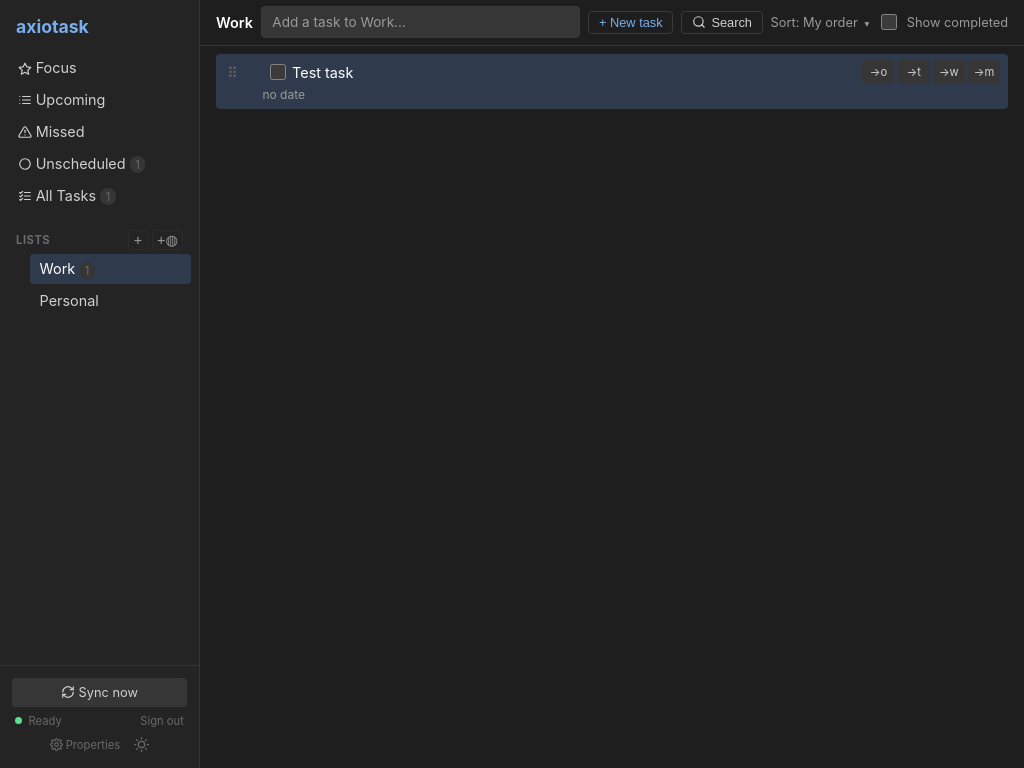
GH#19: Custom context menu › Due date submenu › does not auto-expand the submenu on hover — only on click
Expected: the text "Test task" is shown, 292,64 -> 353,81
Right-click the element with class "task-widget" at (612, 81), box 216,54 -> 1008,109
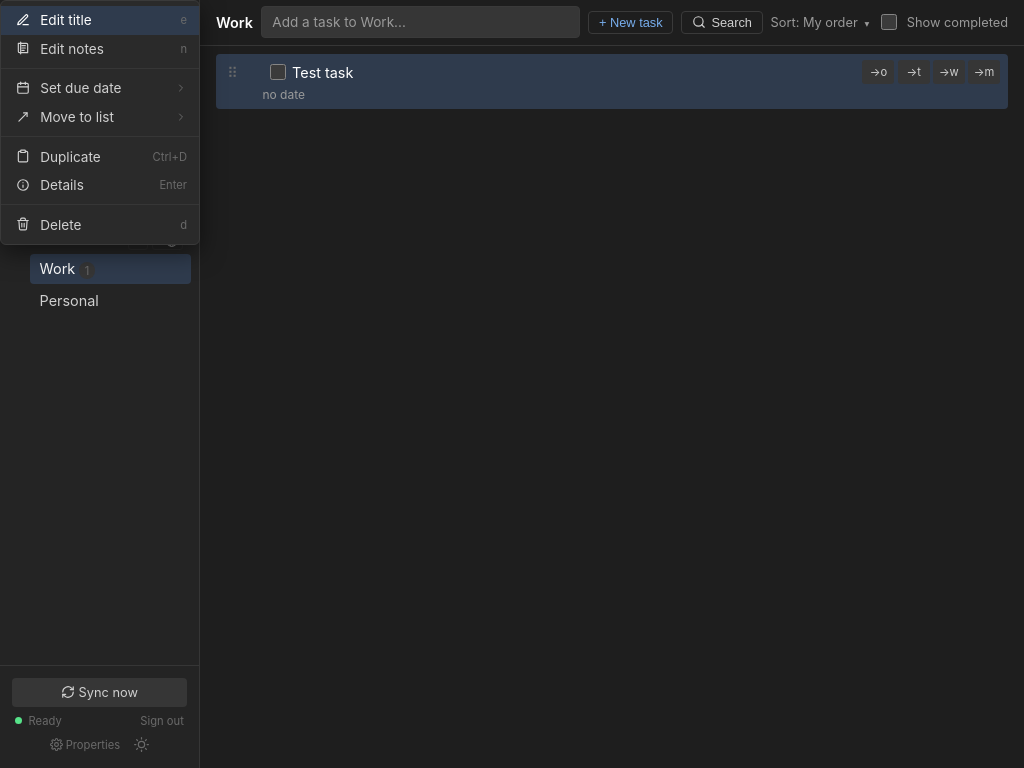
Result: the menu with class "context-menu" is shown at 0,0 -> 200,245
Hover over the text "Set due date" at (101, 88), box 16,80 -> 187,96
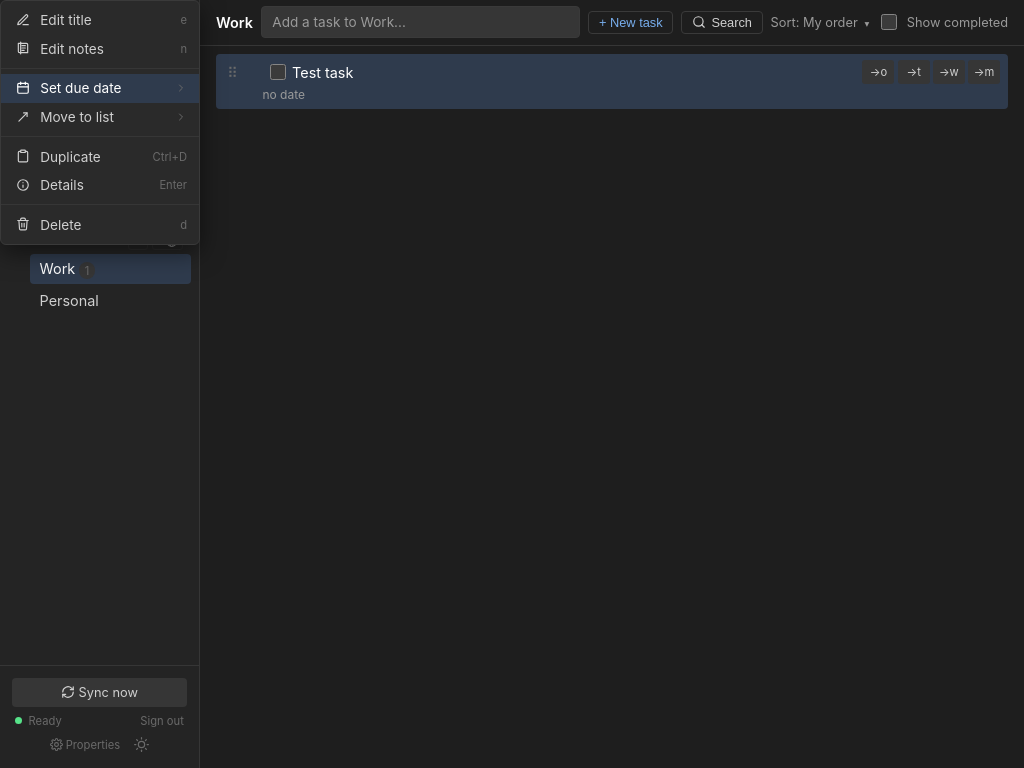
Expected: the text "Tomorrow" is not shown
Click the text "Set due date" at (100, 88), box 1,74 -> 199,103
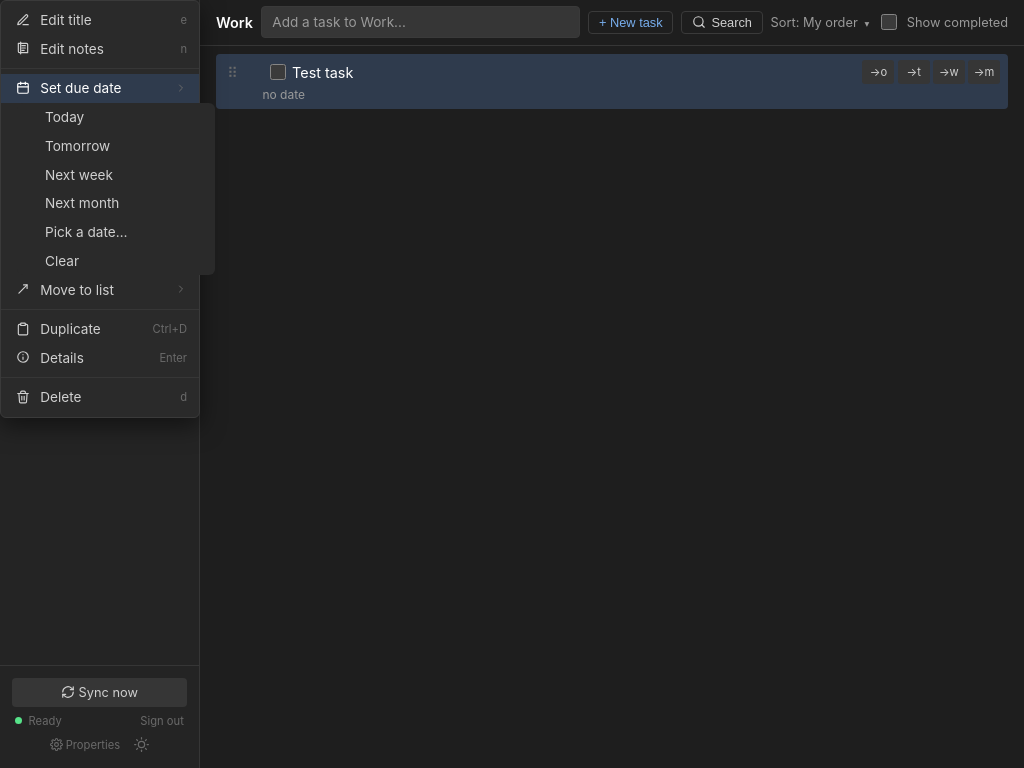
Result: the text "Tomorrow" is shown at 45,138 -> 110,154
